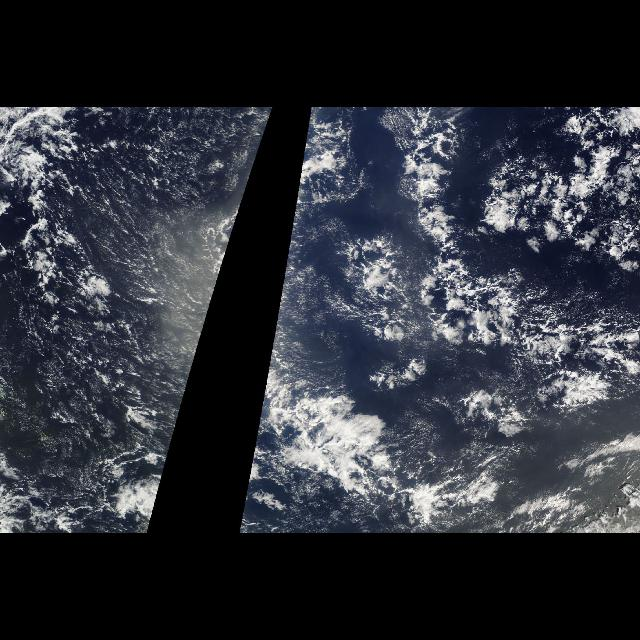Fish: (279, 109, 639, 533)
Gravel: (3, 119, 271, 465), (354, 118, 638, 370), (264, 120, 318, 390)
Sugar: (382, 116, 504, 342)
